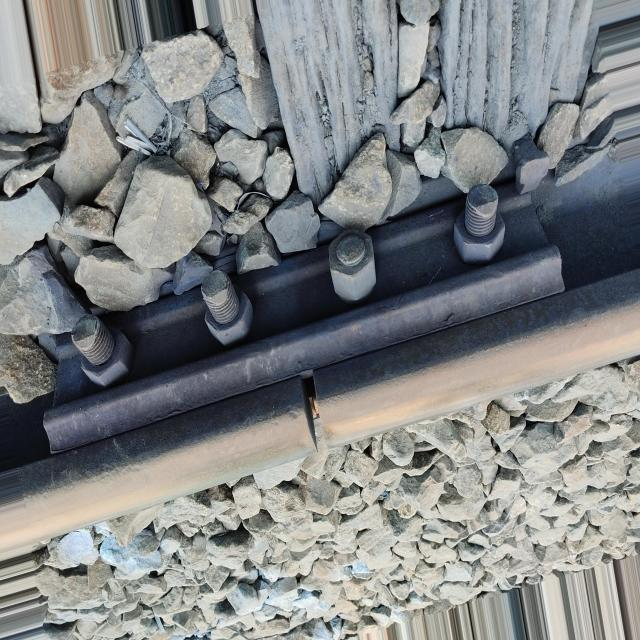Good Joint: (42, 178, 569, 444)
